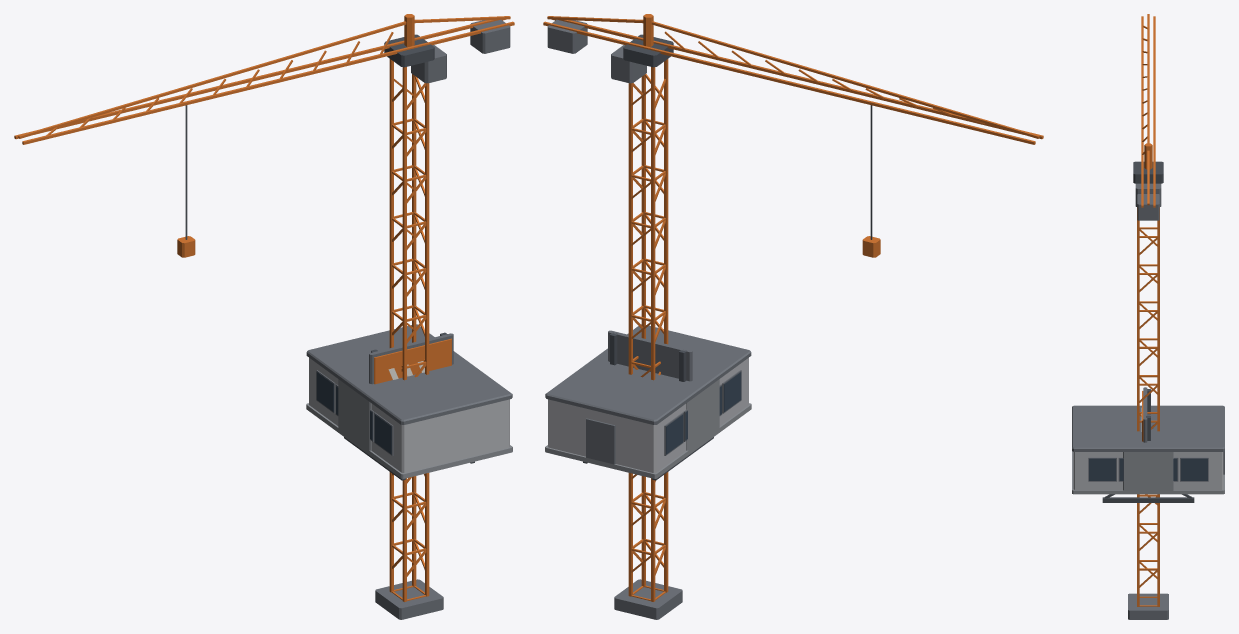
The model's file is Kit.fbx.
3 views of the same model, side by side, from view 1: azimuth 30°, elevation 25°; view 2: azimuth 150°, elevation 25°; view 3: azimuth 270°, elevation 25° (orthographic). The views are drawn at different scales.
Parts seen in each view (by area): view 1: TowerCrane_RT_Orange, Penthouse_RT_Trim, Penthouse_RT_Concrete, TowerCrane_RT_Trim, Billboard_RT_Orange, StairHut_RT_ConcreteDark, TowerCrane_RT_Steel, Penthouse_RT_ConcreteDark, Penthouse_RT_Glass; view 2: TowerCrane_RT_Orange, Penthouse_RT_Trim, Penthouse_RT_Concrete, TowerCrane_RT_Trim, Billboard_RT_Trim, StairHut_RT_ConcreteDark, TowerCrane_RT_Steel, Penthouse_RT_ConcreteDark, Penthouse_RT_Glass; view 3: Penthouse_RT_Trim, TowerCrane_RT_Orange, Penthouse_RT_Concrete, StairHut_RT_ConcreteDark, TowerCrane_RT_Trim, Penthouse_RT_Glass, Penthouse_RT_ConcreteDark, Billboard_RT_Steel, ACUnit_RT_Trim, StairHut_RT_Trim, TowerCrane_RT_Steel, Billboard_RT_Trim.
Boxes of the visible parts, x1,y1,x2,y2 form: TowerCrane_RT_Orange: [14, 14, 514, 601]; Penthouse_RT_Trim: [306, 324, 512, 455]; Penthouse_RT_Concrete: [309, 358, 509, 472]; TowerCrane_RT_Trim: [375, 19, 510, 619]; Billboard_RT_Orange: [374, 338, 451, 384]; StairHut_RT_ConcreteDark: [338, 379, 371, 454]; TowerCrane_RT_Steel: [185, 34, 434, 239]; Penthouse_RT_ConcreteDark: [306, 403, 512, 478]; Penthouse_RT_Glass: [316, 372, 391, 454]; TowerCrane_RT_Orange: [543, 14, 1043, 601]; Penthouse_RT_Trim: [545, 324, 751, 464]; Penthouse_RT_Concrete: [548, 358, 748, 472]; TowerCrane_RT_Trim: [547, 19, 682, 619]; Billboard_RT_Trim: [608, 330, 692, 381]; StairHut_RT_ConcreteDark: [686, 379, 719, 450]; TowerCrane_RT_Steel: [623, 34, 872, 239]; Penthouse_RT_ConcreteDark: [545, 403, 751, 478]; Penthouse_RT_Glass: [666, 372, 741, 454]; Penthouse_RT_Trim: [1072, 405, 1224, 481]; TowerCrane_RT_Orange: [1137, 14, 1159, 606]; Penthouse_RT_Concrete: [1073, 452, 1223, 489]; StairHut_RT_ConcreteDark: [1123, 452, 1173, 494]; TowerCrane_RT_Trim: [1128, 183, 1168, 619]; Penthouse_RT_Glass: [1089, 458, 1207, 480]; Penthouse_RT_ConcreteDark: [1072, 451, 1224, 494]; Billboard_RT_Steel: [1102, 389, 1194, 502]; ACUnit_RT_Trim: [1124, 416, 1172, 436]; StairHut_RT_Trim: [1124, 405, 1172, 451]; TowerCrane_RT_Steel: [1133, 161, 1163, 183]; Billboard_RT_Trim: [1143, 387, 1147, 442].
Size of the model in its own units: 88.05 by 101 by 30.
